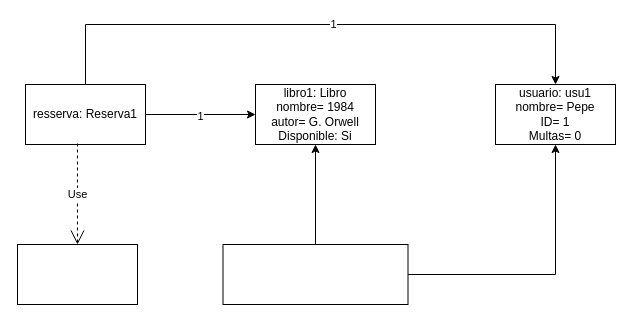
Some shapes in this 633 by 328 pixel diagram are drawn without their labels. The shapes that lost their labels are listed below. From the top down, each one's centre as x and y in pixels, then its label:
the point at 77,274: Reserva1 Fecha 17/02/26 Estado: Bueno Usuario: Usu1
the point at 315,274: biblioteca: Biblioteca1 nombre: Biblioteca Real Ubicación: Granada
